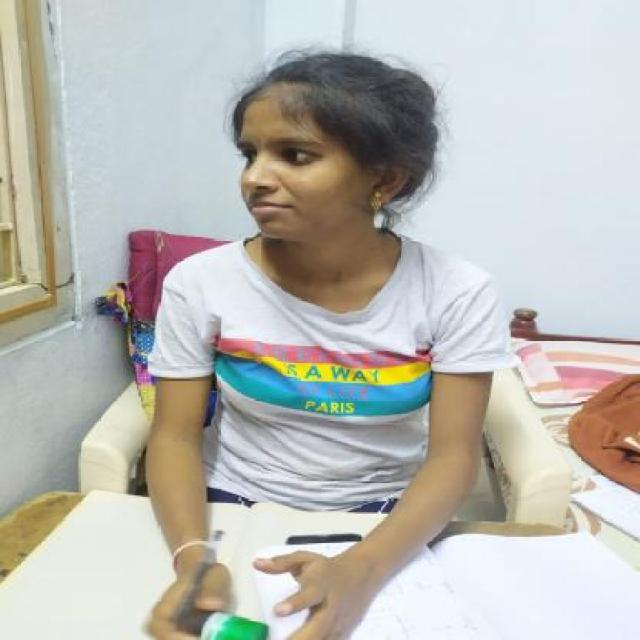cheating: (120, 40, 516, 580)
